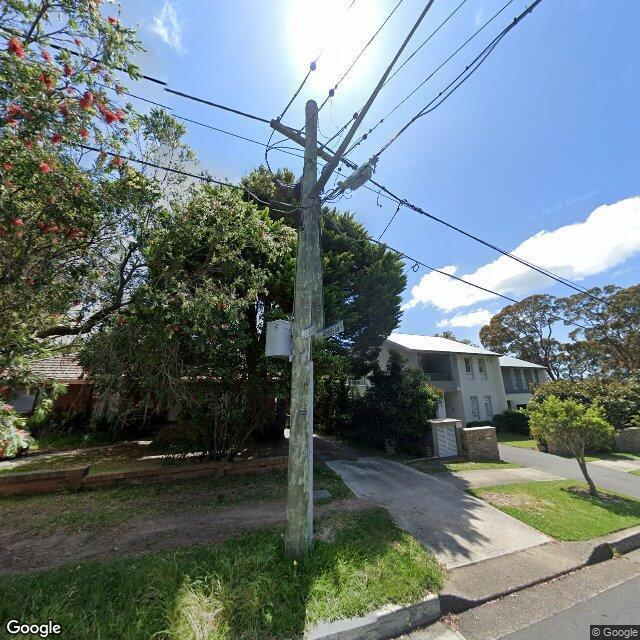crossarm: (270, 116, 336, 166)
timber-pole: (284, 100, 320, 568)
